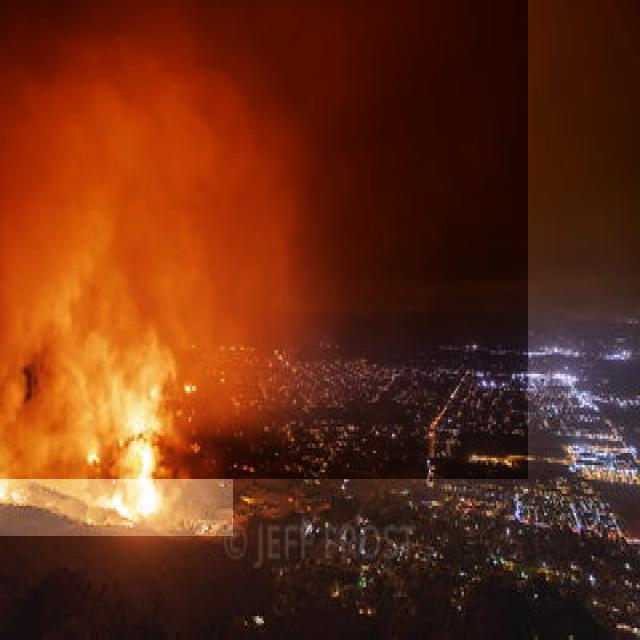Fire: (0, 333, 233, 536)
Smoke: (0, 0, 528, 479)
